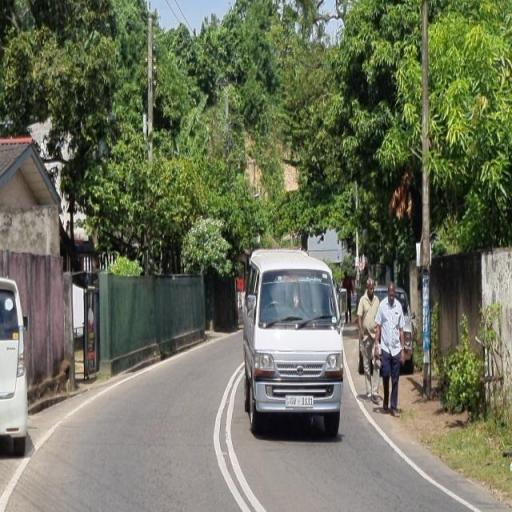double_white_line: (213, 359, 261, 512)
